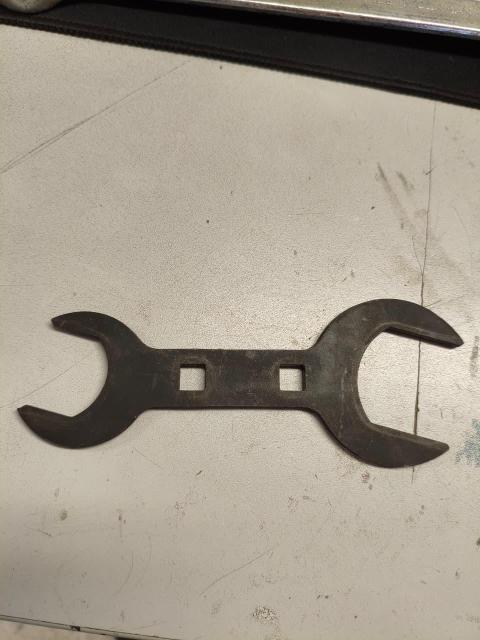Metal: (20, 303, 480, 482)
